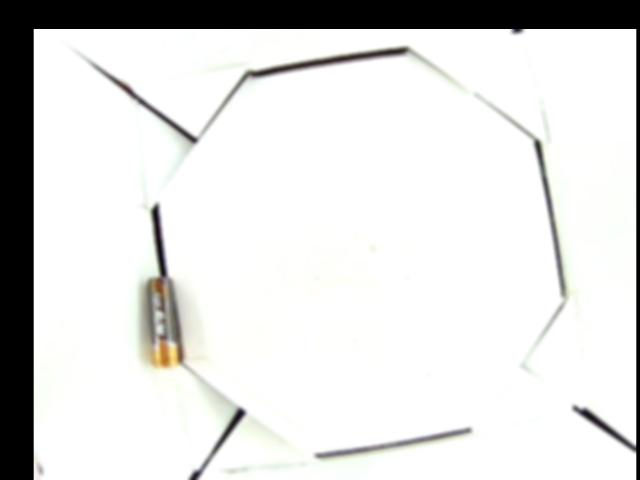Battery: (145, 277, 180, 369)
